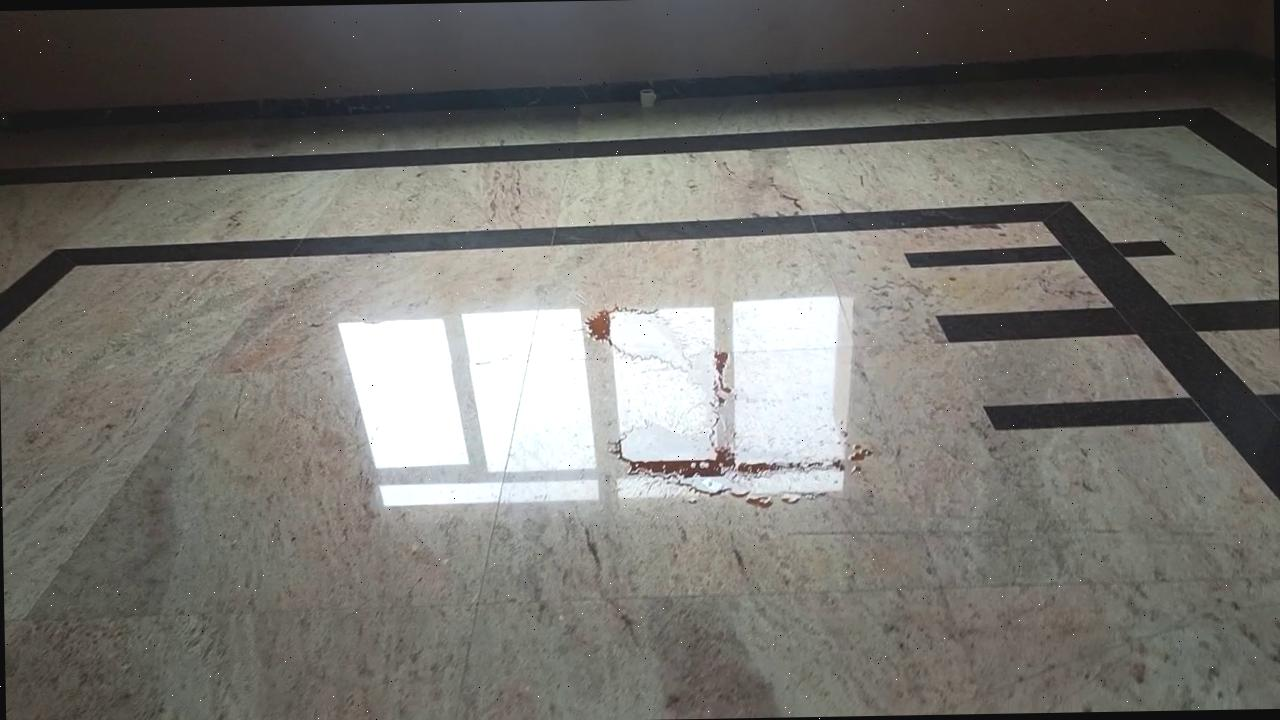dirty_floor: (583, 290, 862, 528)
